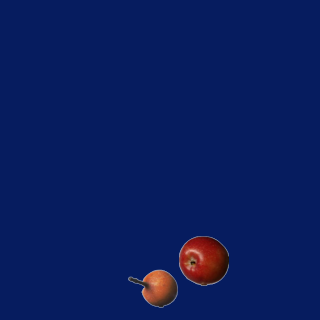Apple Braeburn: (178, 235, 228, 285)
Granadilla: (127, 263, 177, 313)
